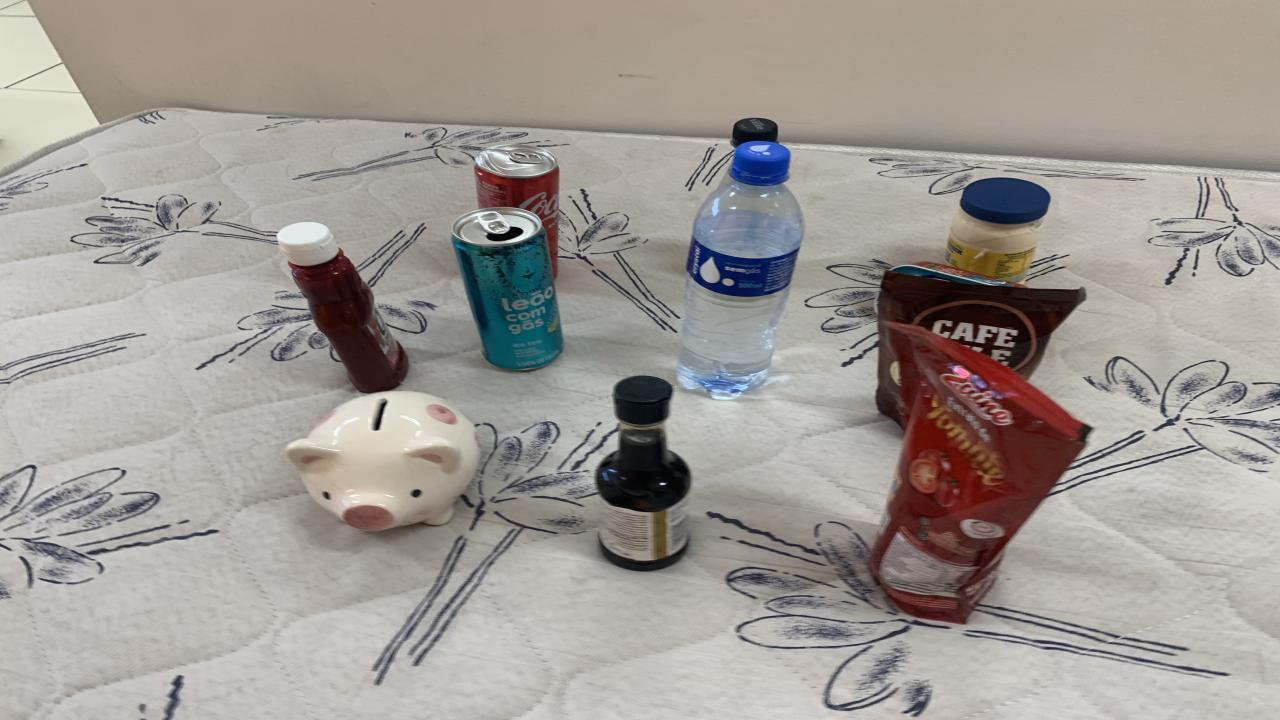Coffee-Pantry_Items: (878, 262, 1085, 379), (878, 328, 902, 422)
Coke-Drinks: (475, 144, 560, 276)
English_Sauce-Pantry_Items: (595, 377, 690, 570)
Ketchup-Pantry_Items: (278, 221, 408, 392)
Mayonnaise-Pantry_Items: (945, 178, 1050, 283)
Pig_Safe-Miscellaneous: (285, 390, 480, 531)
Soda-Drinks: (732, 118, 778, 146)
Tea-Drinks: (452, 206, 562, 371)
Tomato_Sauce-Pantry_Items: (870, 322, 1090, 622)
Water_Bottle-Drinks: (678, 141, 805, 399)
